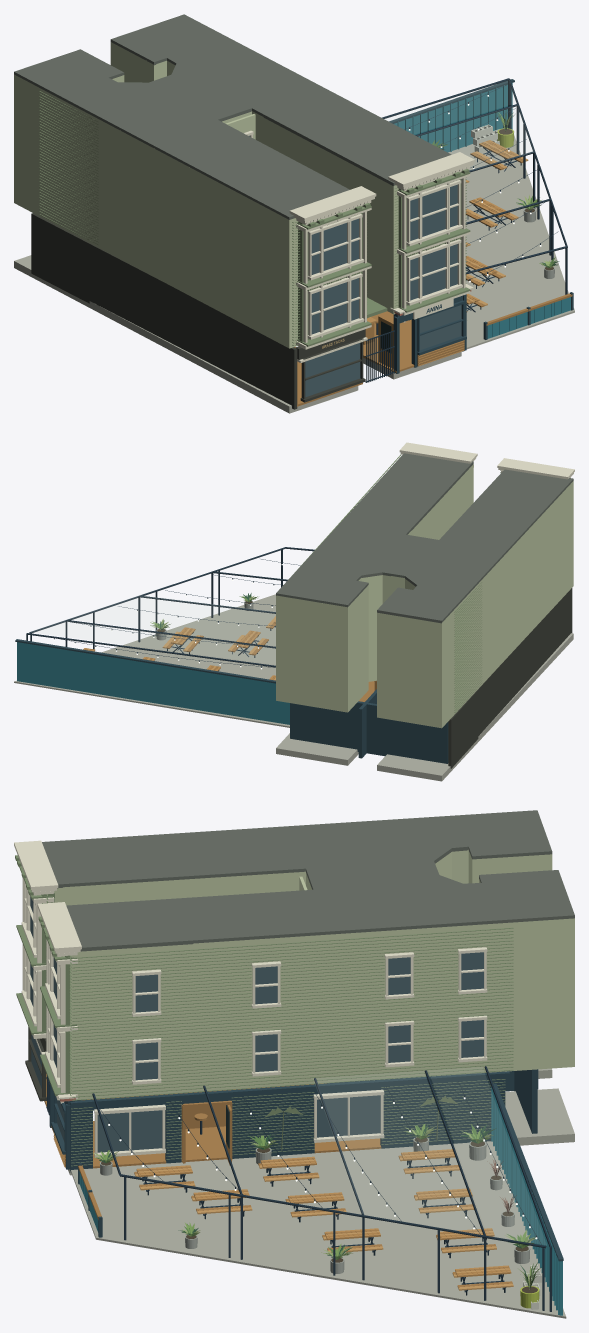
File: anina.glb
3 renders of one model, top to bottom at view 1: azimuth 30°, elevation 25°; view 2: azimuth 150°, elevation 25°; view 3: azimuth 270°, elevation 25°, orthographic. The views are drawn at different scales.
Parts seen in each view (by area): view 1: Anina / pale green weatherboards, Anina / charcoal flat roof, Anina / Brass Tacks charcoal fascia, Anina / patio concrete, Anina / ivory painted Victorian trim, Anina / cool reflective sash glazing, Anina / olive green inset panels, Anina / navy picnic steel, Anina / turquoise patio fence, Anina / warm picnic oak 1, Anina / deep blue bar siding, Anina / warm picnic oak 0 (+1 smaller); view 2: Anina / pale green weatherboards, Anina / charcoal flat roof, Anina / patio concrete, Anina / turquoise patio fence, Anina / deep blue bar siding, Anina / Brass Tacks charcoal fascia, Anina / navy picnic steel, Anina / olive green inset panels, Anina / ivory painted Victorian trim, Anina / warm picnic oak 1, Anina / warm picnic oak 2; view 3: Anina / pale green weatherboards, Anina / charcoal flat roof, Anina / patio concrete, Anina / olive green inset panels, Anina / deep blue bar siding, Anina / ivory painted Victorian trim, Anina / cool reflective sash glazing, Anina / navy picnic steel, Anina / warm picnic oak 1, Anina / turquoise patio fence, Anina / warm picnic oak 2, Anina / warm picnic oak 0 (+4 smaller).
Part boxes in pixels (bbox=[...]): Anina / pale green weatherboards: bbox=[14, 42, 459, 348]; Anina / charcoal flat roof: bbox=[14, 14, 451, 219]; Anina / Brass Tacks charcoal fascia: bbox=[31, 213, 365, 409]; Anina / patio concrete: bbox=[14, 135, 574, 413]; Anina / ivory painted Victorian trim: bbox=[244, 130, 474, 362]; Anina / cool reflective sash glazing: bbox=[249, 135, 461, 397]; Anina / olive green inset panels: bbox=[39, 91, 470, 346]; Anina / navy picnic steel: bbox=[365, 78, 567, 382]; Anina / turquoise patio fence: bbox=[394, 82, 570, 338]; Anina / warm picnic oak 1: bbox=[294, 142, 572, 406]; Anina / deep blue bar siding: bbox=[389, 79, 573, 373]; Anina / warm picnic oak 0: bbox=[367, 140, 519, 366]; Anina / pale green weatherboards: bbox=[276, 464, 573, 728]; Anina / charcoal flat roof: bbox=[276, 453, 573, 623]; Anina / patio concrete: bbox=[14, 594, 573, 781]; Anina / turquoise patio fence: bbox=[17, 642, 289, 724]; Anina / deep blue bar siding: bbox=[15, 639, 448, 763]; Anina / Brass Tacks charcoal fascia: bbox=[448, 588, 572, 768]; Anina / navy picnic steel: bbox=[26, 547, 314, 670]; Anina / olive green inset panels: bbox=[288, 454, 500, 712]; Anina / ivory painted Victorian trim: bbox=[399, 442, 574, 479]; Anina / warm picnic oak 1: bbox=[90, 620, 376, 701]; Anina / warm picnic oak 2: bbox=[87, 616, 275, 680]; Anina / pale green weatherboards: bbox=[54, 849, 574, 1099]; Anina / charcoal flat roof: bbox=[42, 810, 574, 951]; Anina / patio concrete: bbox=[68, 1068, 574, 1318]; Anina / olive green inset panels: bbox=[15, 855, 513, 1166]; Anina / deep blue bar siding: bbox=[49, 1069, 563, 1261]; Anina / ivory painted Victorian trim: bbox=[14, 840, 487, 1157]; Anina / cool reflective sash glazing: bbox=[30, 897, 483, 1152]; Anina / navy picnic steel: bbox=[46, 1066, 551, 1311]; Anina / warm picnic oak 1: bbox=[44, 1074, 512, 1287]; Anina / turquoise patio fence: bbox=[79, 1087, 562, 1315]; Anina / warm picnic oak 2: bbox=[135, 1152, 513, 1290]; Anina / warm picnic oak 0: bbox=[53, 1105, 511, 1277].
Size of the model in its own units: 30.3 by 11.33 by 24.98.
